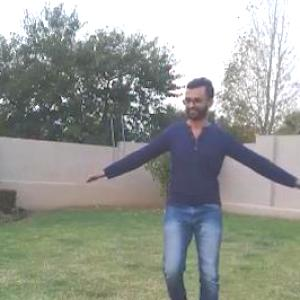land: (54, 47, 299, 299)
